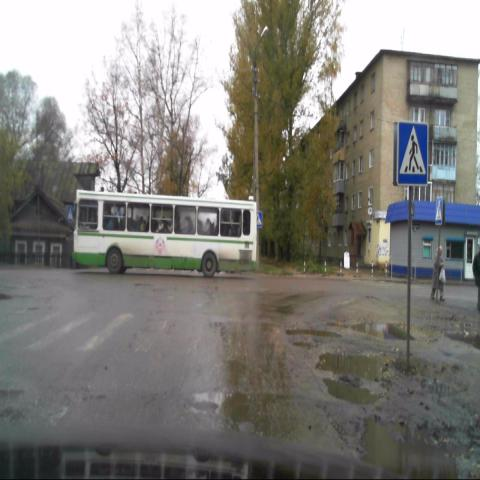5_19_1: (396, 119, 428, 187), (436, 196, 444, 223), (253, 211, 262, 229)
